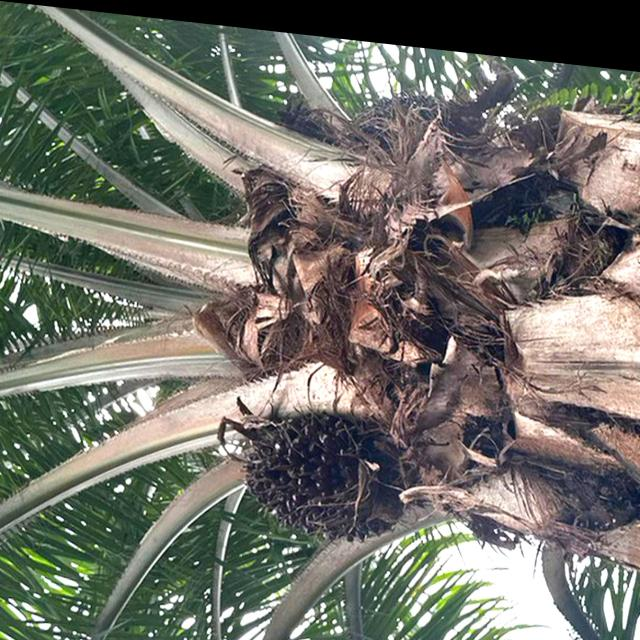almost: (236, 394, 418, 547)
